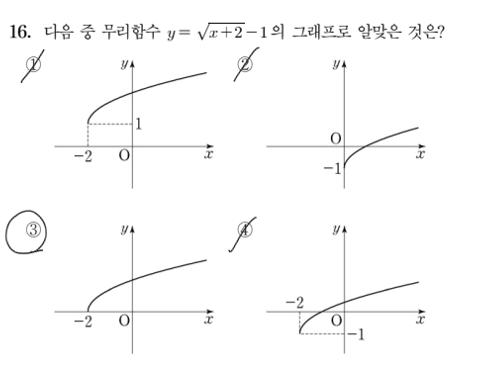1: (4, 207, 52, 256)
paper: (235, 55, 256, 75), (235, 220, 256, 240), (23, 220, 44, 240), (22, 55, 43, 75)
